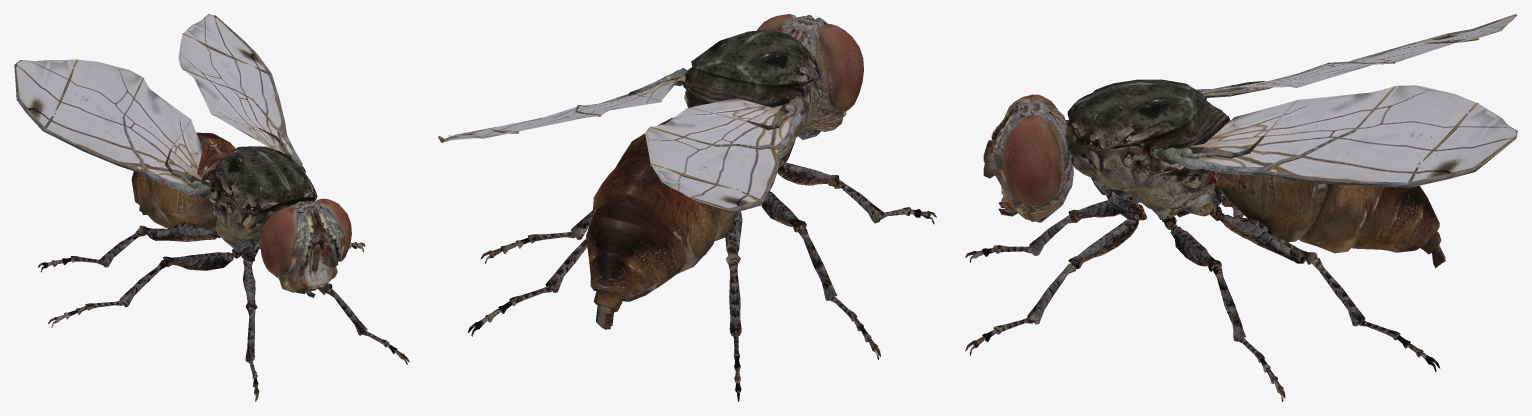
File: fly.glb
3 views of the same model, side by side, from view 1: azimuth 30°, elevation 25°; view 2: azimuth 150°, elevation 25°; view 3: azimuth 270°, elevation 25° (orthographic). The views are drawn at different scales.
Visible parts, largest first — view 1: body; view 2: body; view 3: body.
Part boxes in pixels (bbox=[...]): body: bbox=[14, 14, 409, 401]; body: bbox=[438, 14, 936, 401]; body: bbox=[965, 14, 1517, 401].
Bounding box in the file's own units: 5.63 × 3.24 × 6.73.
1 material, 1 textured.
